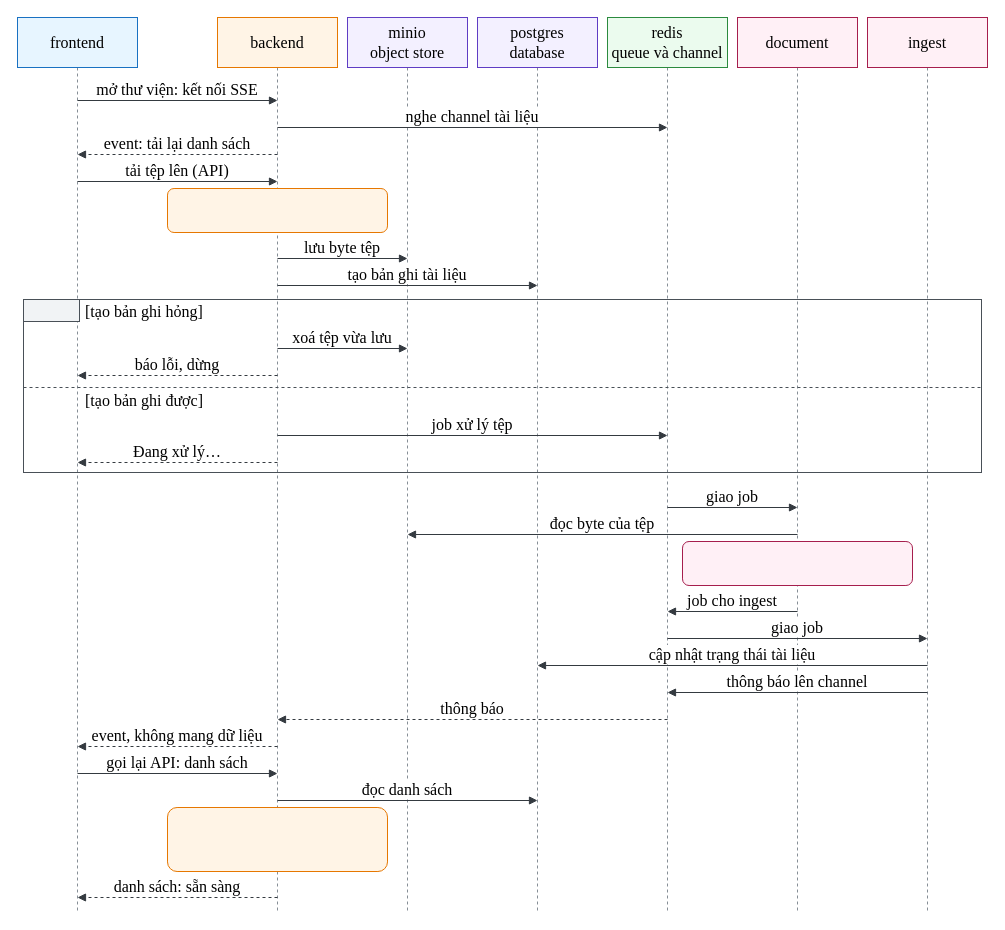
This 1005x930 diagram has some shape labels left out. Here are the shapes that lost their labels. From the top down, the box of each, then its label:
(166, 188, 388, 232): kiểm định dạng, kích thước, tệp không rỗng
(22, 298, 80, 322): alt
(682, 540, 912, 586): trích nội dung, ghi vào content store
(166, 806, 388, 872): đang xử lý mà quá 300 giây không có tiến độ thì hiển thị là xử lý thất bại
